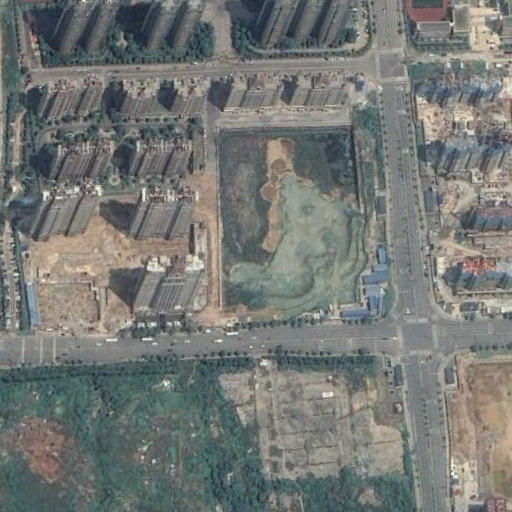cw: (217, 127, 372, 323)
